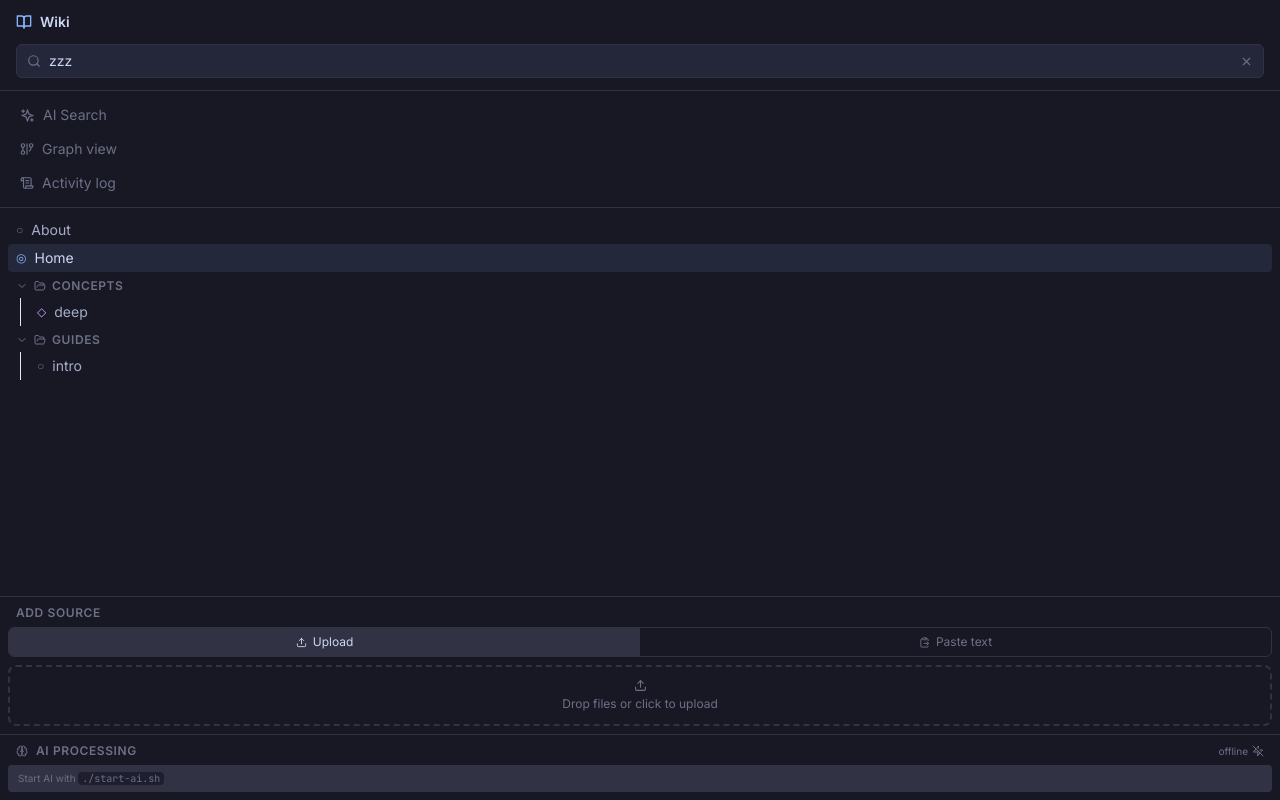
Test: Sidebar — search › shows "No results" when search returns nothing
Click the field with placeholder "Search…": click(640, 61) [49,51,1232,71]
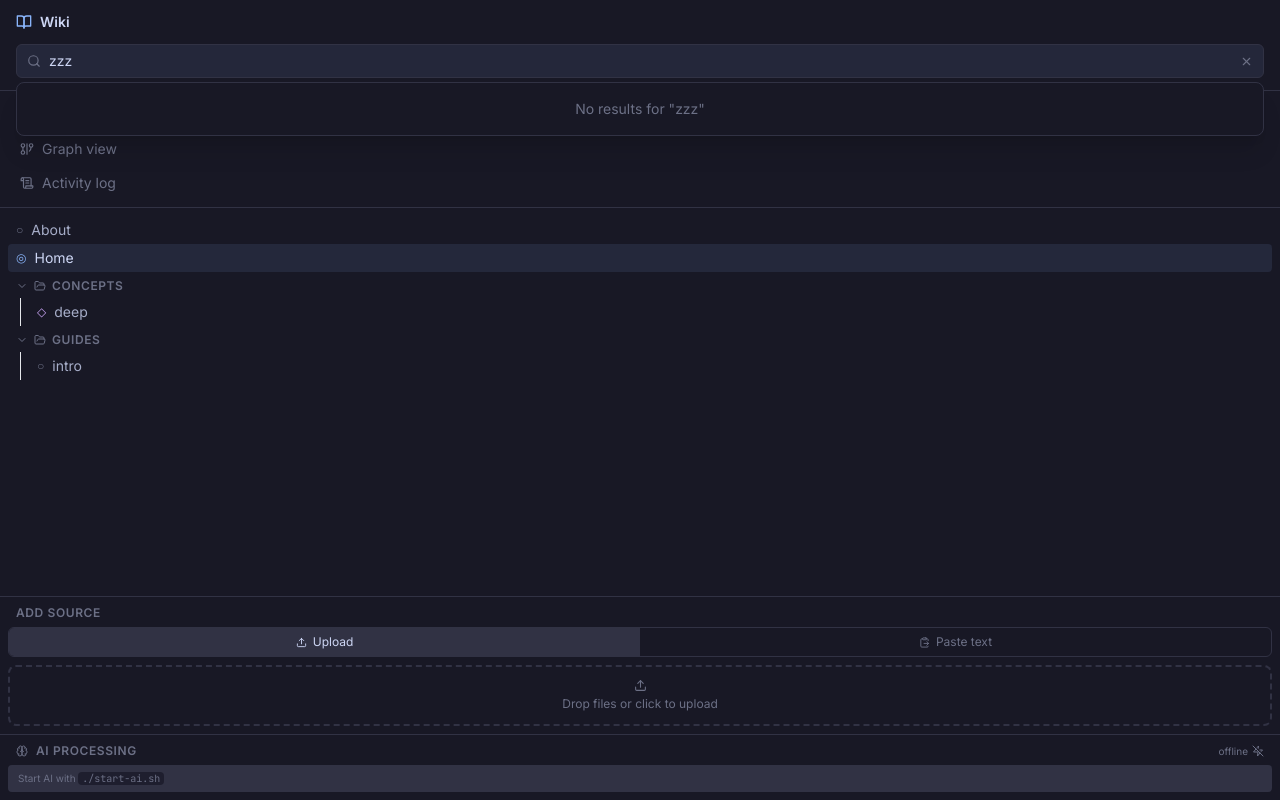
Check: the text "No results for \"zzz\"" is shown, box [575,100,705,117]
